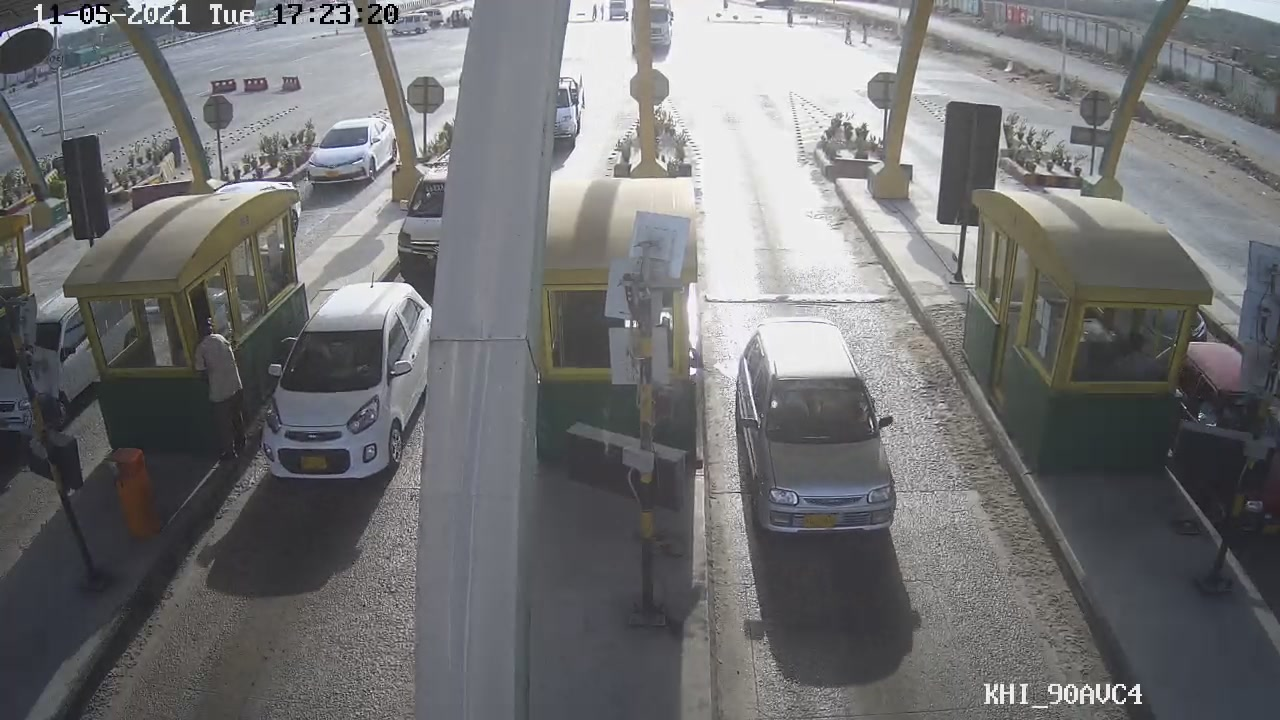F1: (729, 311, 913, 537)
